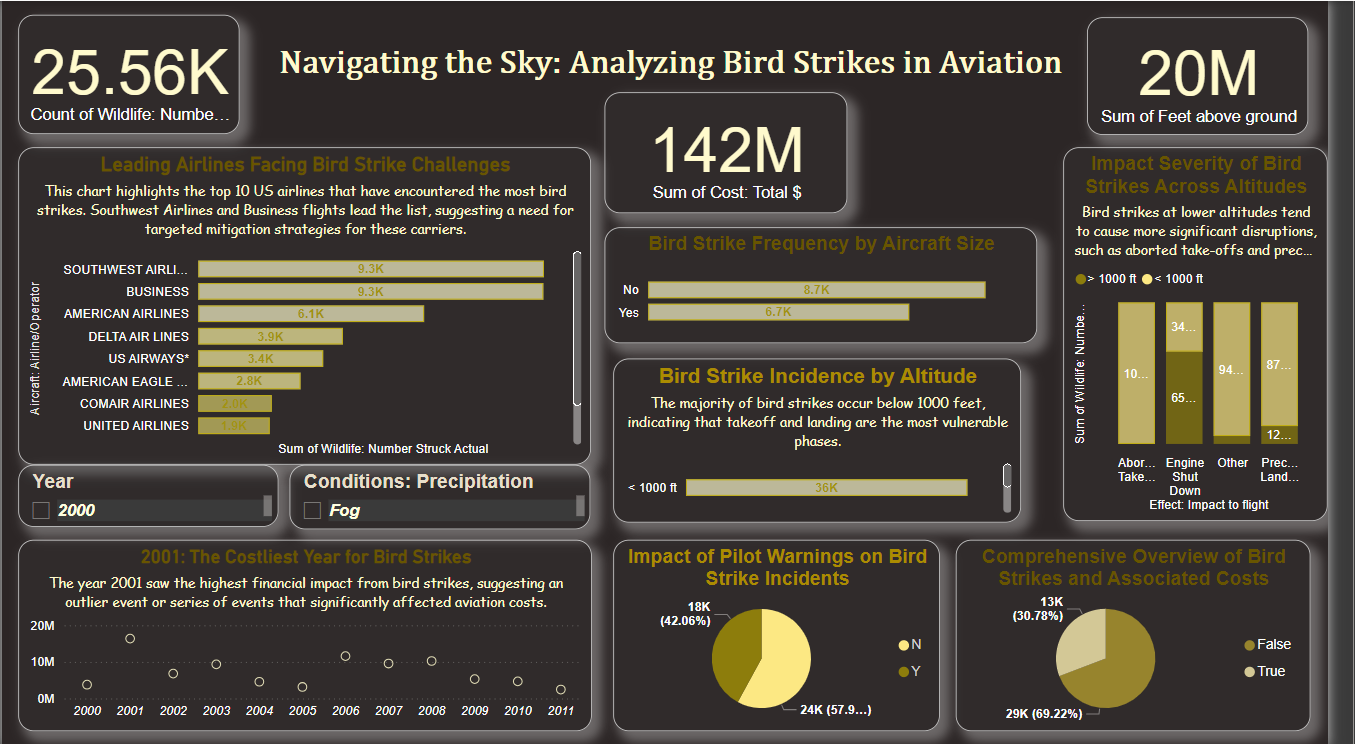

The page's visual inventory and layout, read from the dashboard file:
{"tool":"powerbi","page":{"name":"Page 1","canvas":[1280,720],"ordinal":0},"visuals":[{"type":"card","fields":{"Values":["CountNonNull(Sheet1.Wildlife: Number Struck Actual)"]},"box":[15.1,13.2,213.5,115.3],"z":0},{"type":"card","fields":{"Values":["Sum(Sheet1.Cost: Total $)"]},"box":[589.6,102,234.3,117.2],"z":1000},{"type":"card","fields":{"Values":["Sum(Sheet1.Feet above ground)"]},"box":[1046.9,15.1,213.5,113.4],"z":2000},{"type":"clusteredBarChart","title":"Leading Airlines Facing Bird Strike Challenges","fields":{"Y":["Sum(Sheet1.Wildlife: Number Struck Actual)"],"Category":["Sheet1.Aircraft: Airline/Operator"]},"box":[15.1,136.1,553.7,306.1],"z":3000},{"type":"scatterChart","title":"2001: The Costliest Year for Bird Strikes","fields":{"Y":["Sum(Sheet1.Cost: Total $)"],"X":["Sheet1.FlightDate.Variation.Date Hierarchy.Year"]},"box":[15.1,519.7,553.7,185.2],"z":4000},{"type":"clusteredBarChart","title":"Bird Strike Incidence by Altitude","fields":{"Y":["Sum(Sheet1.Wildlife: Number Struck Actual)"],"Category":["Sheet1.Altitude bin"]},"box":[589.6,343.9,393.1,158.7],"z":5000},{"type":"clusteredBarChart","title":"Bird Strike Frequency by Aircraft Size","fields":{"Y":["CountNonNull(Sheet1.Wildlife: Number Struck Actual)"],"Category":["Sheet1.Is Aircraft Large?"]},"box":[589.6,234.3,417.6,111.5],"z":6000},{"type":"pieChart","title":"Impact of Pilot Warnings on Bird Strike Incidents","fields":{"Category":["Sheet1.Pilot warned of birds or wildlife?"],"Y":["Sum(Sheet1.Wildlife: Number Struck Actual)"]},"box":[589.6,519.7,315.6,185.2],"z":7000},{"type":"hundredPercentStackedColumnChart","title":"Impact Severity of Bird Strikes Across Altitudes","fields":{"Category":["Sheet1.Effect: Impact to flight"],"Series":["Sheet1.Altitude bin"],"Y":["Sum(Sheet1.Wildlife: Number Struck Actual)"]},"box":[1024.3,141.7,255.1,360.9],"z":8000},{"type":"pieChart","title":"Comprehensive Overview of Bird Strikes and Associated Costs","fields":{"Category":["Sheet1.Remains of wildlife collected?"],"Y":["Sum(Sheet1.Wildlife: Number Struck Actual)"]},"box":[920.3,519.7,342,185.2],"z":9000},{"type":"slicer","fields":{"Values":["Sheet1.FlightDate.Variation.Date Hierarchy.Year"]},"box":[15.1,459.2,251.3,60.5],"z":10000},{"type":"slicer","fields":{"Values":["Sheet1.Conditions: Precipitation"]},"box":[292.9,457.3,253.2,62.4],"z":11000},{"type":"textbox","box":[243.8,37.8,803.2,51],"z":12000}]}

Visuals, with their boxes in screenshot pixels (x1, y1, x2, y2), scaled from the page's 1280x720 canvas onto the 1355x744 screenshot:
card - CountNonNull(Sheet1.Wildlife: Number Struck Actual): select_region(16, 14, 242, 133)
card - Sum(Sheet1.Cost: Total $): select_region(624, 105, 872, 227)
card - Sum(Sheet1.Feet above ground): select_region(1108, 16, 1334, 133)
"Leading Airlines Facing Bird Strike Challenges" clusteredBarChart: select_region(16, 141, 602, 457)
"2001: The Costliest Year for Bird Strikes" scatterChart: select_region(16, 537, 602, 728)
"Bird Strike Incidence by Altitude" clusteredBarChart: select_region(624, 355, 1040, 519)
"Bird Strike Frequency by Aircraft Size" clusteredBarChart: select_region(624, 242, 1066, 357)
"Impact of Pilot Warnings on Bird Strike Incidents" pieChart: select_region(624, 537, 958, 728)
"Impact Severity of Bird Strikes Across Altitudes" hundredPercentStackedColumnChart: select_region(1084, 146, 1354, 519)
"Comprehensive Overview of Bird Strikes and Associated Costs" pieChart: select_region(974, 537, 1336, 728)
slicer - Sheet1.FlightDate.Variation.Date Hierarchy.Year: select_region(16, 475, 282, 537)
slicer - Sheet1.Conditions: Precipitation: select_region(310, 473, 578, 537)
textbox: select_region(258, 39, 1108, 92)
